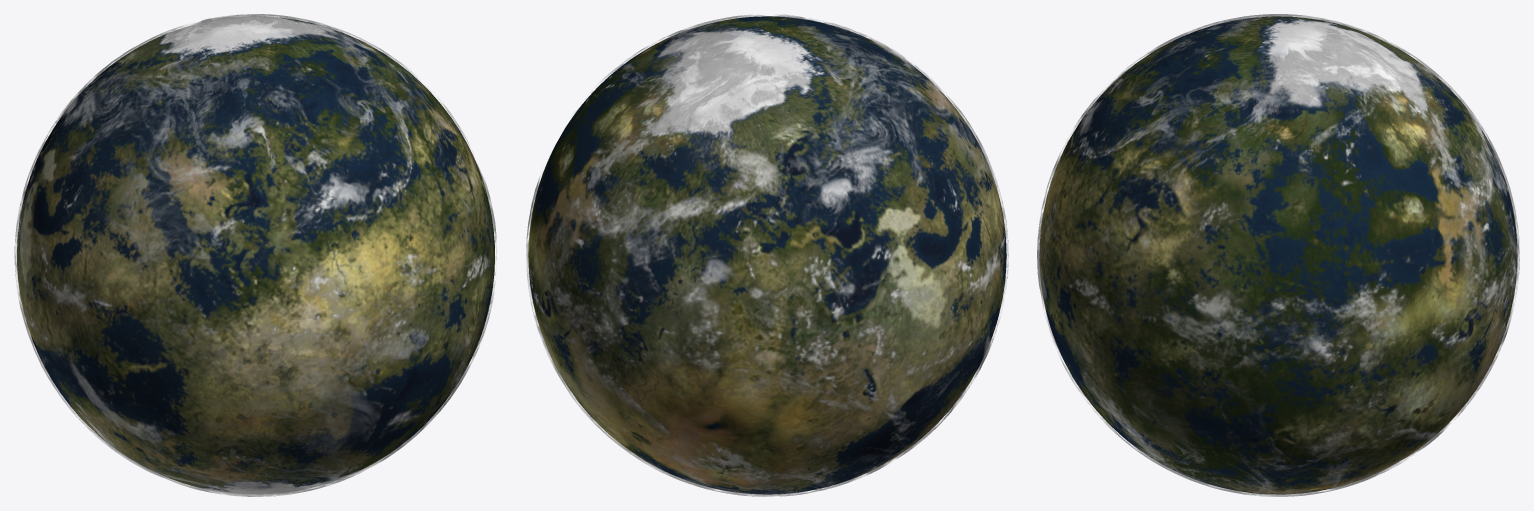
Rendered from Kepler-186-e.glb.
3 views of the same model, side by side, from view 1: azimuth 30°, elevation 25°; view 2: azimuth 150°, elevation 25°; view 3: azimuth 270°, elevation 25° (orthographic).
Visible parts, largest first — view 1: Esfera, Esfera_1; view 2: Esfera, Esfera_1; view 3: Esfera, Esfera_1.
Part boxes in pixels (x1,y1,x2,y2): Esfera: [17, 16, 494, 494]; Esfera_1: [14, 14, 496, 496]; Esfera: [528, 16, 1006, 494]; Esfera_1: [526, 14, 1008, 496]; Esfera: [1039, 16, 1517, 494]; Esfera_1: [1037, 14, 1519, 496].
Bounding box in the file's own units: 2019 × 2020 × 2019.
2 materials, 2 textured.
